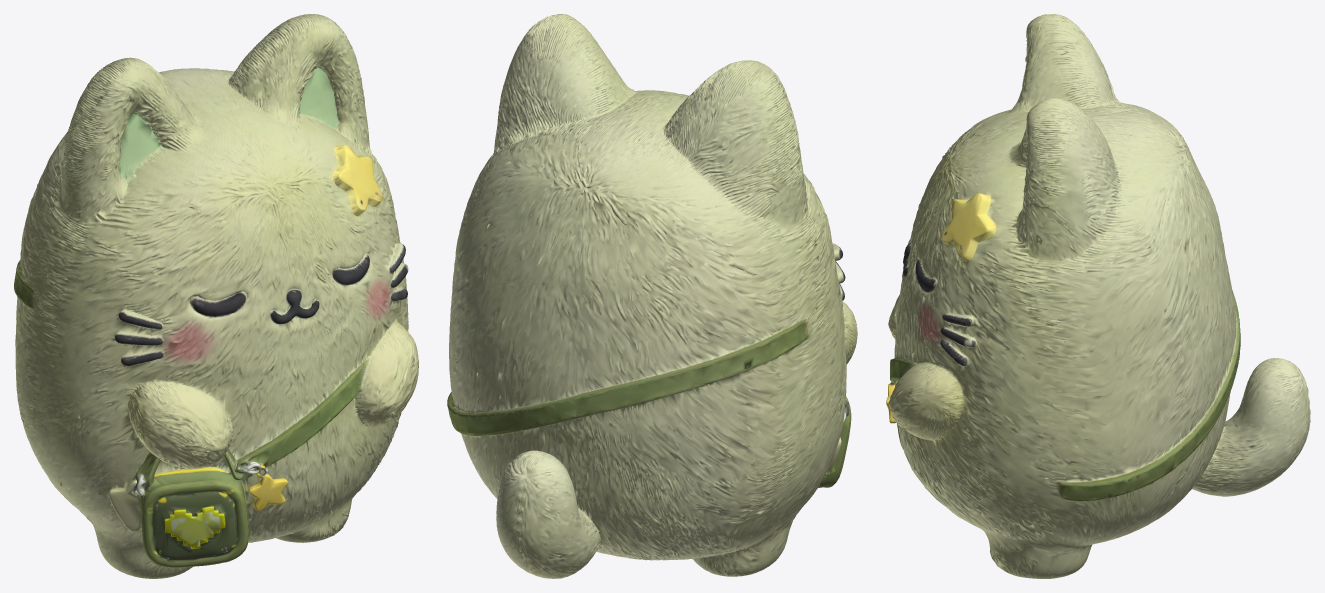
File: meowchi-animated-compressed.glb
The picture shows the model from 3 angles, left to right: view 1: azimuth 30°, elevation 25°; view 2: azimuth 150°, elevation 25°; view 3: azimuth 270°, elevation 25°; orthographic projection. The views are drawn at different scales.
Visible parts, largest first — view 1: material; view 2: material; view 3: material.
Boxes of the visible parts, <box> form: material: <box>14,14,418,578</box>; material: <box>447,14,857,578</box>; material: <box>886,14,1310,578</box>.
Bounding box in the file's own units: 0.7766 × 1.07 × 0.8716.
Materials: 1 (1 with a texture image).
